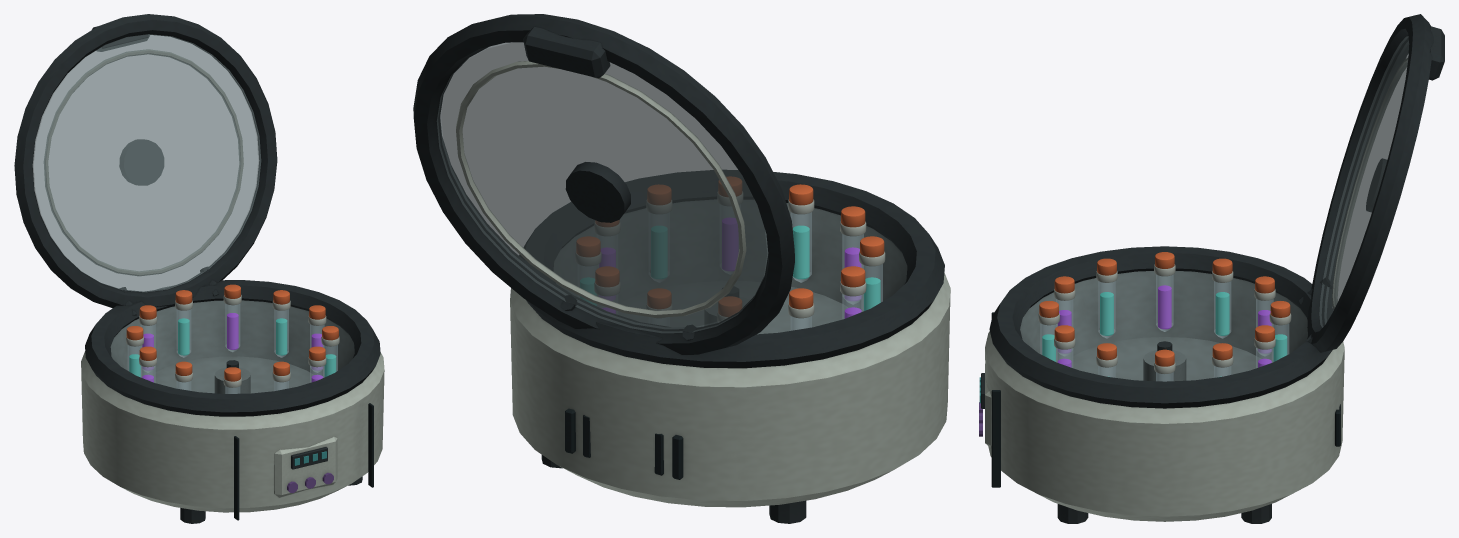
File: centrifuge.glb
3 views of the same model, side by side, from view 1: azimuth 30°, elevation 25°; view 2: azimuth 150°, elevation 25°; view 3: azimuth 270°, elevation 25° (orthographic). The views are drawn at different scales.
Visible parts, largest first — view 1: Lid smoky window, Centrifuge body, Lid outer frame, Thick rubber opening, Lid raised ring, Control module, Lid central fitting, Rounded glass tube 03, Rounded glass tube 02, Rounded glass tube 01, Rotor hub, Front casing seam (+5 smaller); view 2: Centrifuge body, Lid smoky window, Lid outer frame, Thick rubber opening, Lid raised ring, Lid central fitting, Lid handle, Rounded glass tube 09, Visible liquid 09, Visible liquid 11, Rounded glass tube 07, Visible liquid 10 (+2 smaller); view 3: Centrifuge body, Thick rubber opening, Lid outer frame, Lid smoky window, Lid raised ring, Front casing seam.001, Rounded glass tube 05, Rounded glass tube 06, Rounded glass tube 07, Rotor hub, Lid handle, Visible liquid 05 (+4 smaller).
Boxes of the visible parts, <box> form: Lid smoky window: <box>32,34,261,292</box>; Centrifuge body: <box>81,300,384,512</box>; Lid outer frame: <box>14,14,277,308</box>; Thick rubber opening: <box>85,280,380,416</box>; Lid raised ring: <box>44,49,243,275</box>; Control module: <box>274,436,337,497</box>; Lid central fitting: <box>119,139,163,185</box>; Rounded glass tube 03: <box>176,309,191,357</box>; Rounded glass tube 02: <box>225,304,240,351</box>; Rounded glass tube 01: <box>274,309,288,357</box>; Rotor hub: <box>214,367,250,393</box>; Front casing seam: <box>234,436,239,520</box>; Centrifuge body: <box>510,199,950,507</box>; Lid smoky window: <box>436,42,768,333</box>; Lid outer frame: <box>413,14,794,354</box>; Thick rubber opening: <box>519,170,944,368</box>; Lid raised ring: <box>456,61,746,317</box>; Lid central fitting: <box>565,162,630,222</box>; Lid handle: <box>523,26,610,78</box>; Rounded glass tube 09: <box>790,212,811,282</box>; Visible liquid 09: <box>793,225,809,279</box>; Visible liquid 11: <box>651,226,666,278</box>; Rounded glass tube 07: <box>861,264,882,311</box>; Visible liquid 10: <box>722,218,737,270</box>; Centrifuge body: <box>985,271,1344,521</box>; Thick rubber opening: <box>989,246,1333,408</box>; Lid outer frame: <box>1307,14,1433,352</box>; Lid smoky window: <box>1319,36,1409,327</box>; Lid raised ring: <box>1331,58,1408,309</box>; Front casing seam.001: <box>991,390,1000,487</box>; Rounded glass tube 05: <box>1214,281,1231,338</box>; Rounded glass tube 06: <box>1156,274,1173,331</box>; Rounded glass tube 07: <box>1098,281,1115,338</box>; Rotor hub: <box>1143,350,1186,381</box>; Lid handle: <box>1429,26,1444,80</box>; Visible liquid 05: <box>1215,292,1229,335</box>.
Bounding box in the file's own units: 0.47 × 0.6362 × 0.6082.
Materials: 5 (1 with a texture image).
